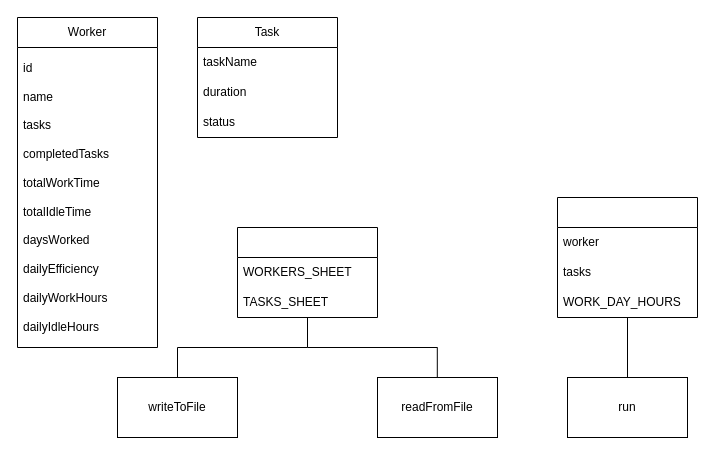
Image size: 715x455. Some labels were removed from this diagram. Each missing label, with the box of its shape:
FileManager: (236, 226, 378, 318)
WorkingProcess: (556, 196, 698, 318)
